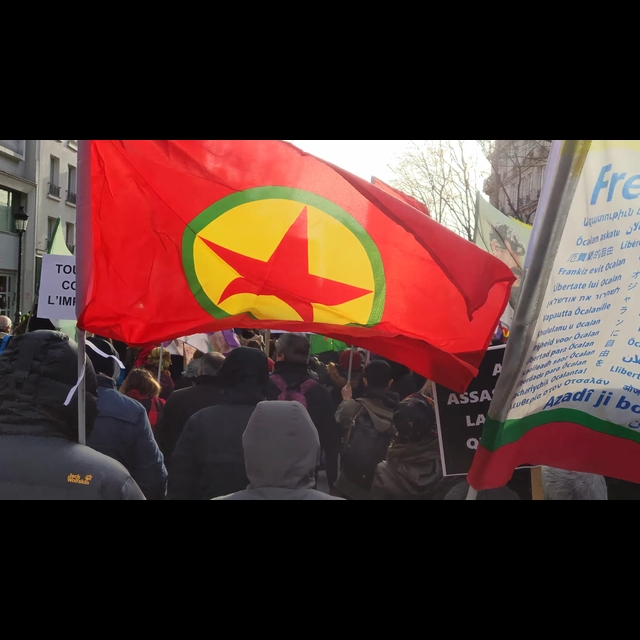PKK: (172, 179, 392, 344)
